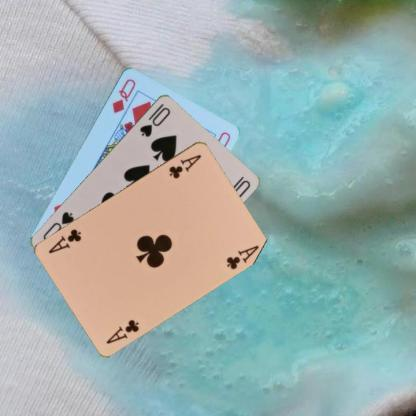10s: (136, 100, 172, 138)
Ac: (166, 151, 203, 180), (104, 316, 140, 345)
Qd: (109, 76, 137, 114)
